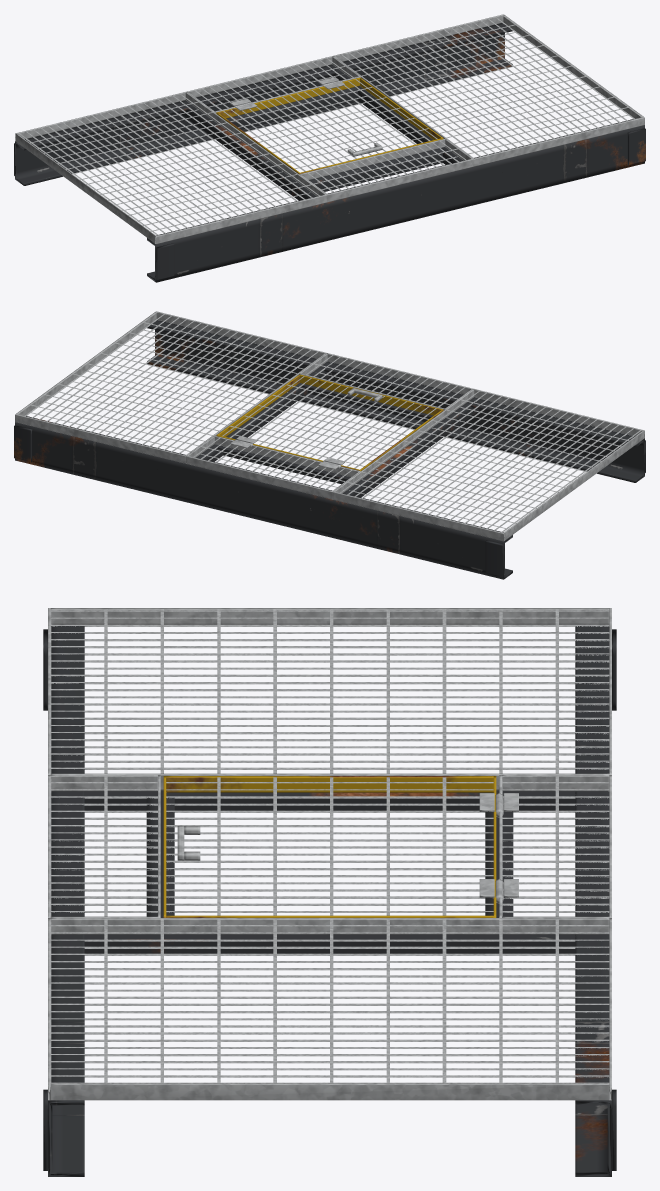
The model's file is SM_IK_Catwalk_200_Hatch_LOD1.fbx.
The picture shows the model from 3 angles, top to bottom: view 1: azimuth 30°, elevation 25°; view 2: azimuth 150°, elevation 25°; view 3: azimuth 270°, elevation 25°; orthographic projection. The views are drawn at different scales.
Visible parts, largest first — view 1: SM_IK_Catwalk_200_Hatch_LOD1; view 2: SM_IK_Catwalk_200_Hatch_LOD1; view 3: SM_IK_Catwalk_200_Hatch_LOD1.
Boxes of the visible parts, x1=… form: SM_IK_Catwalk_200_Hatch_LOD1: x1=14, y1=14, x2=645, y2=282; SM_IK_Catwalk_200_Hatch_LOD1: x1=14, y1=311, x2=645, y2=579; SM_IK_Catwalk_200_Hatch_LOD1: x1=43, y1=608, x2=616, y2=1176.
Size of the model in its own units: 200 by 102 by 19.2.
